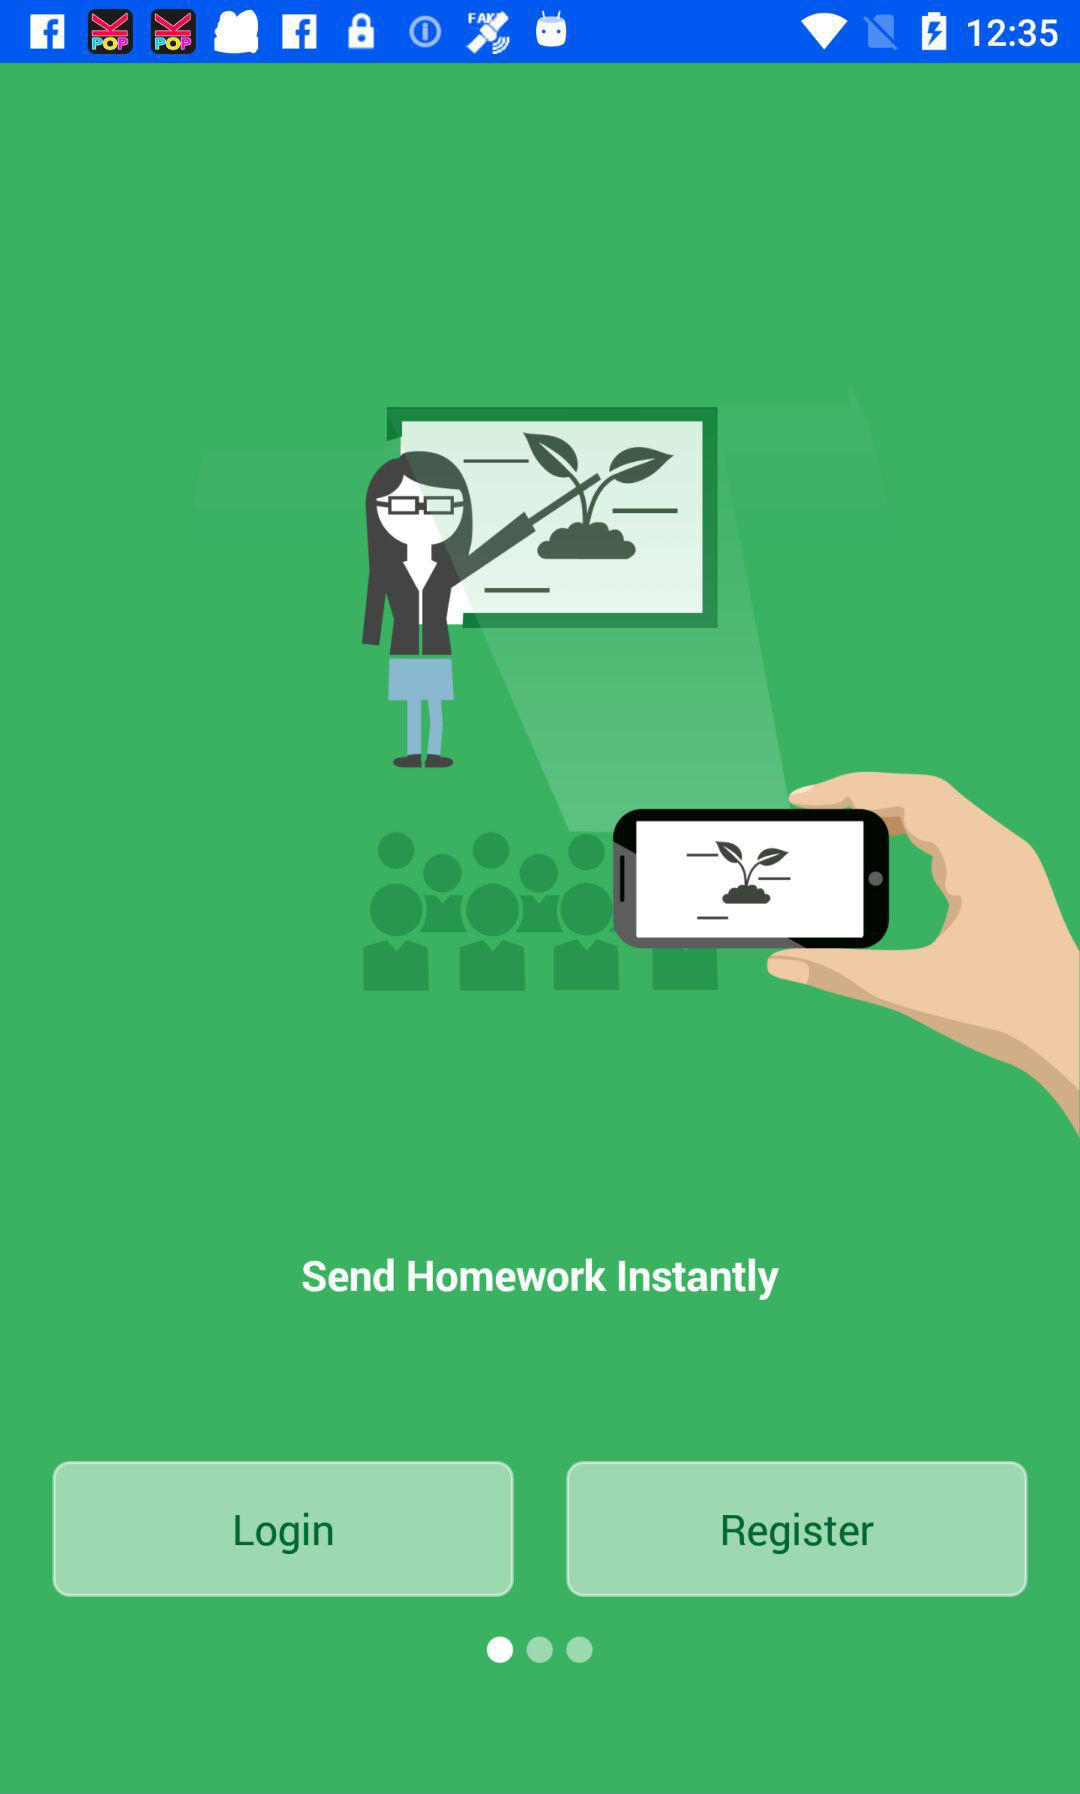Image: (363, 406, 1080, 1137)
PageIndicator: (486, 1634, 594, 1665)
Text: (301, 1257, 780, 1301)
TextButton: (53, 1460, 515, 1598), (566, 1460, 1027, 1598)
UpperTaskBar: (1, 1, 1080, 64)
